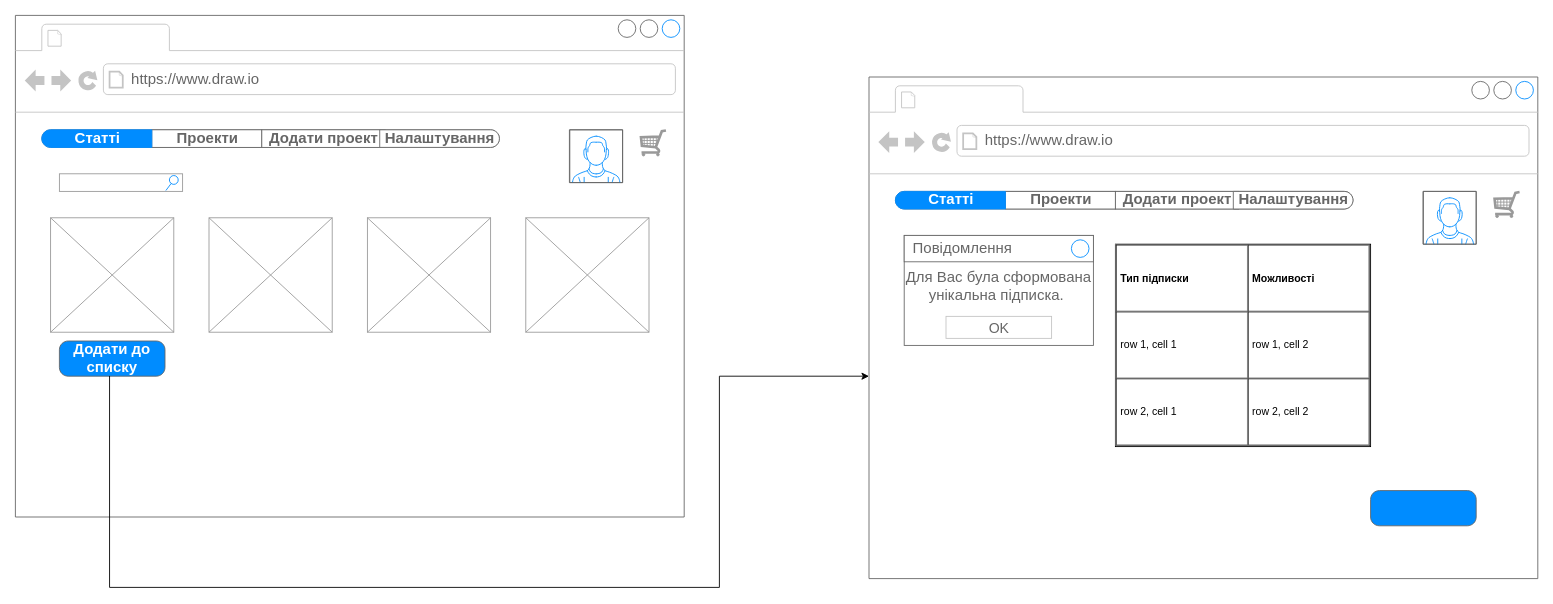
The diagram is 1553 pixels wide and 604 high, and some of its shapes have lost their labels. The centre of each missing label's shape, as x and y in pixels:
Search: point 121,182
Придбати: point 1423,508
